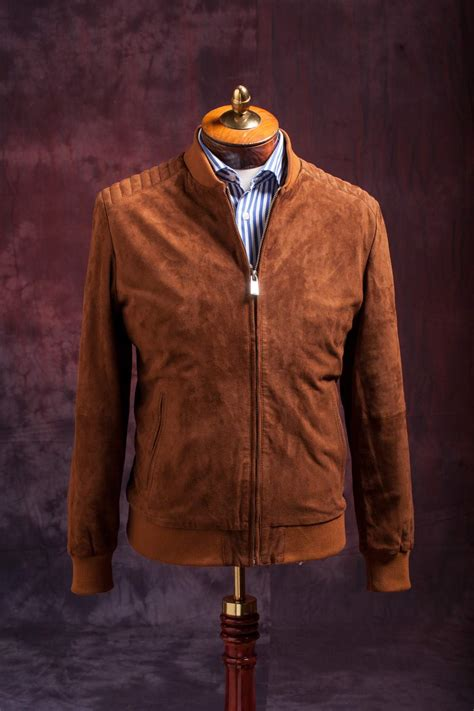gamuza: (67, 130, 413, 597)
